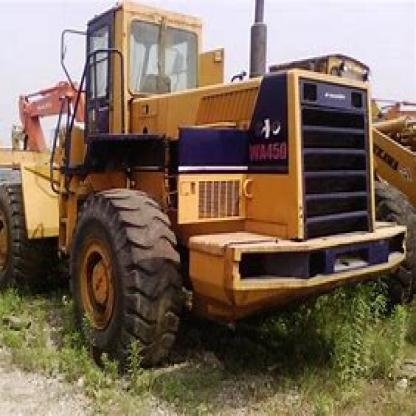bull_dozer/loader/grader: (2, 2, 407, 373)
